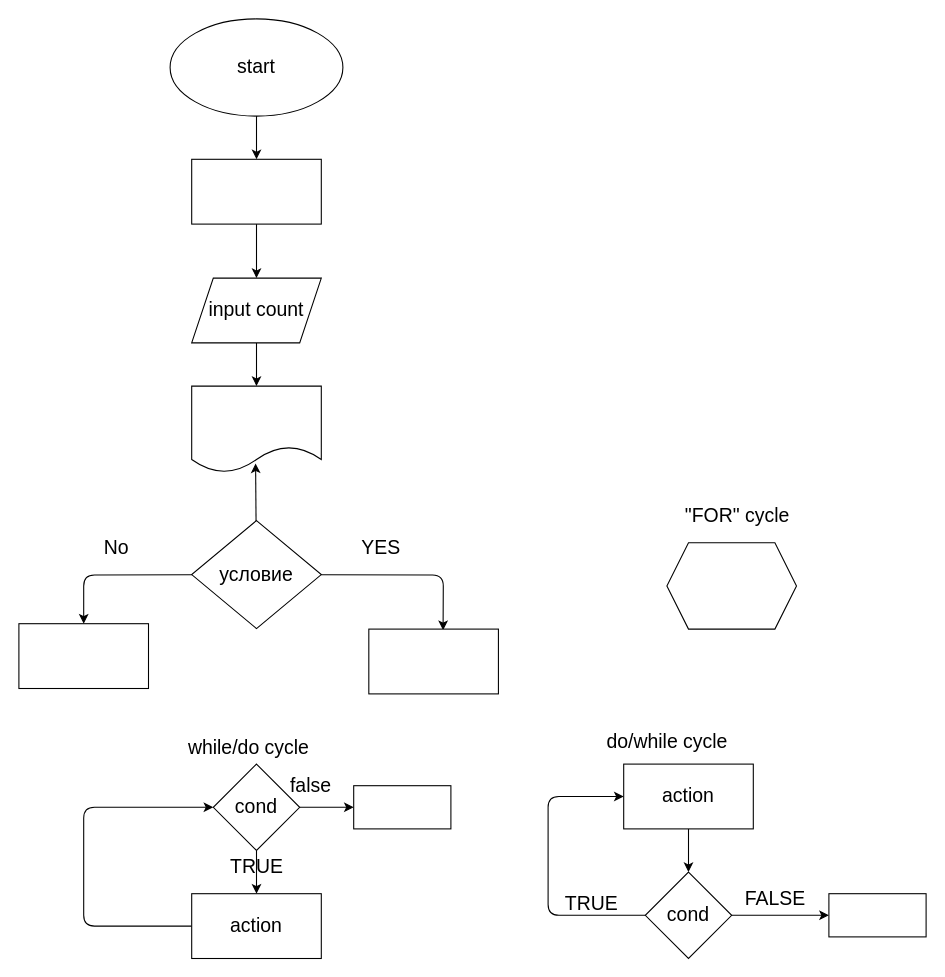
Image size: 945x977. Some labels were removed from this diagram. The box of each missing label's shape, as (x1, y1, x2, y2) in pixels:
count=0 res=1*Sqrt(2): (191, 158, 321, 224)
count=1,10,1: (666, 542, 796, 629)
print count: (191, 385, 321, 473)
